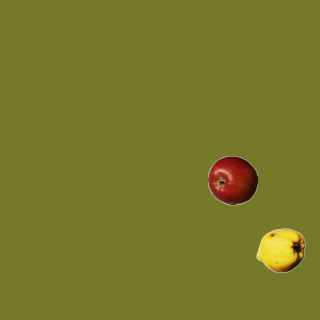Apple Braeburn: (207, 155, 257, 205)
Quince: (255, 225, 305, 275)
